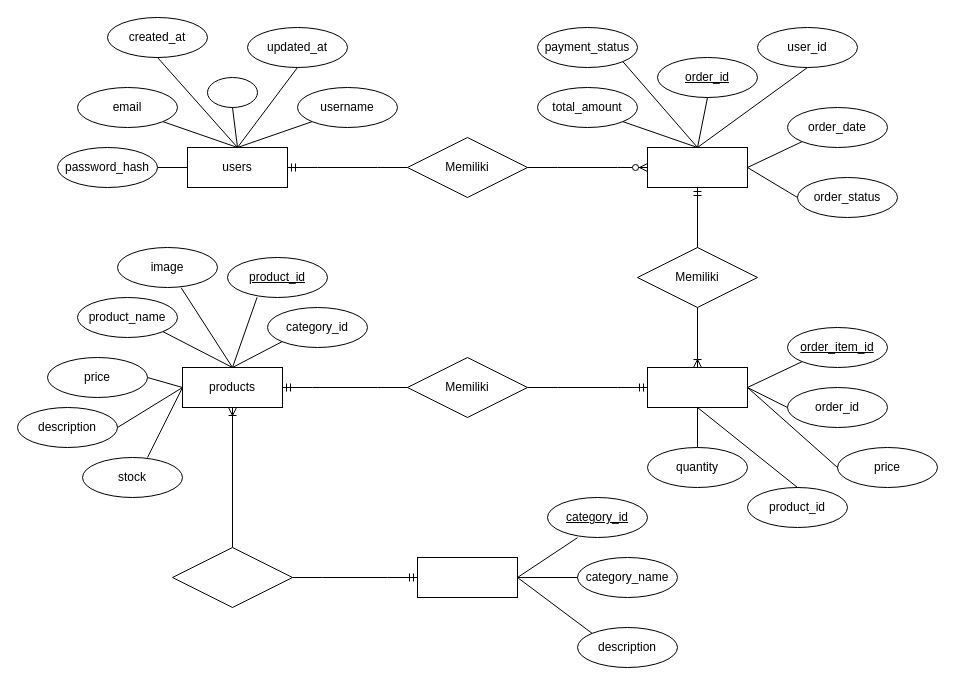
Image size: 955x685. Some labels were removed from this diagram. Here are the shapes that lost their labels. From the top down, the centre of each, then its label:
the point at 232,92: id
the point at 697,167: orders
the point at 697,387: order_items
the point at 232,577: Memilki
the point at 467,577: categories
